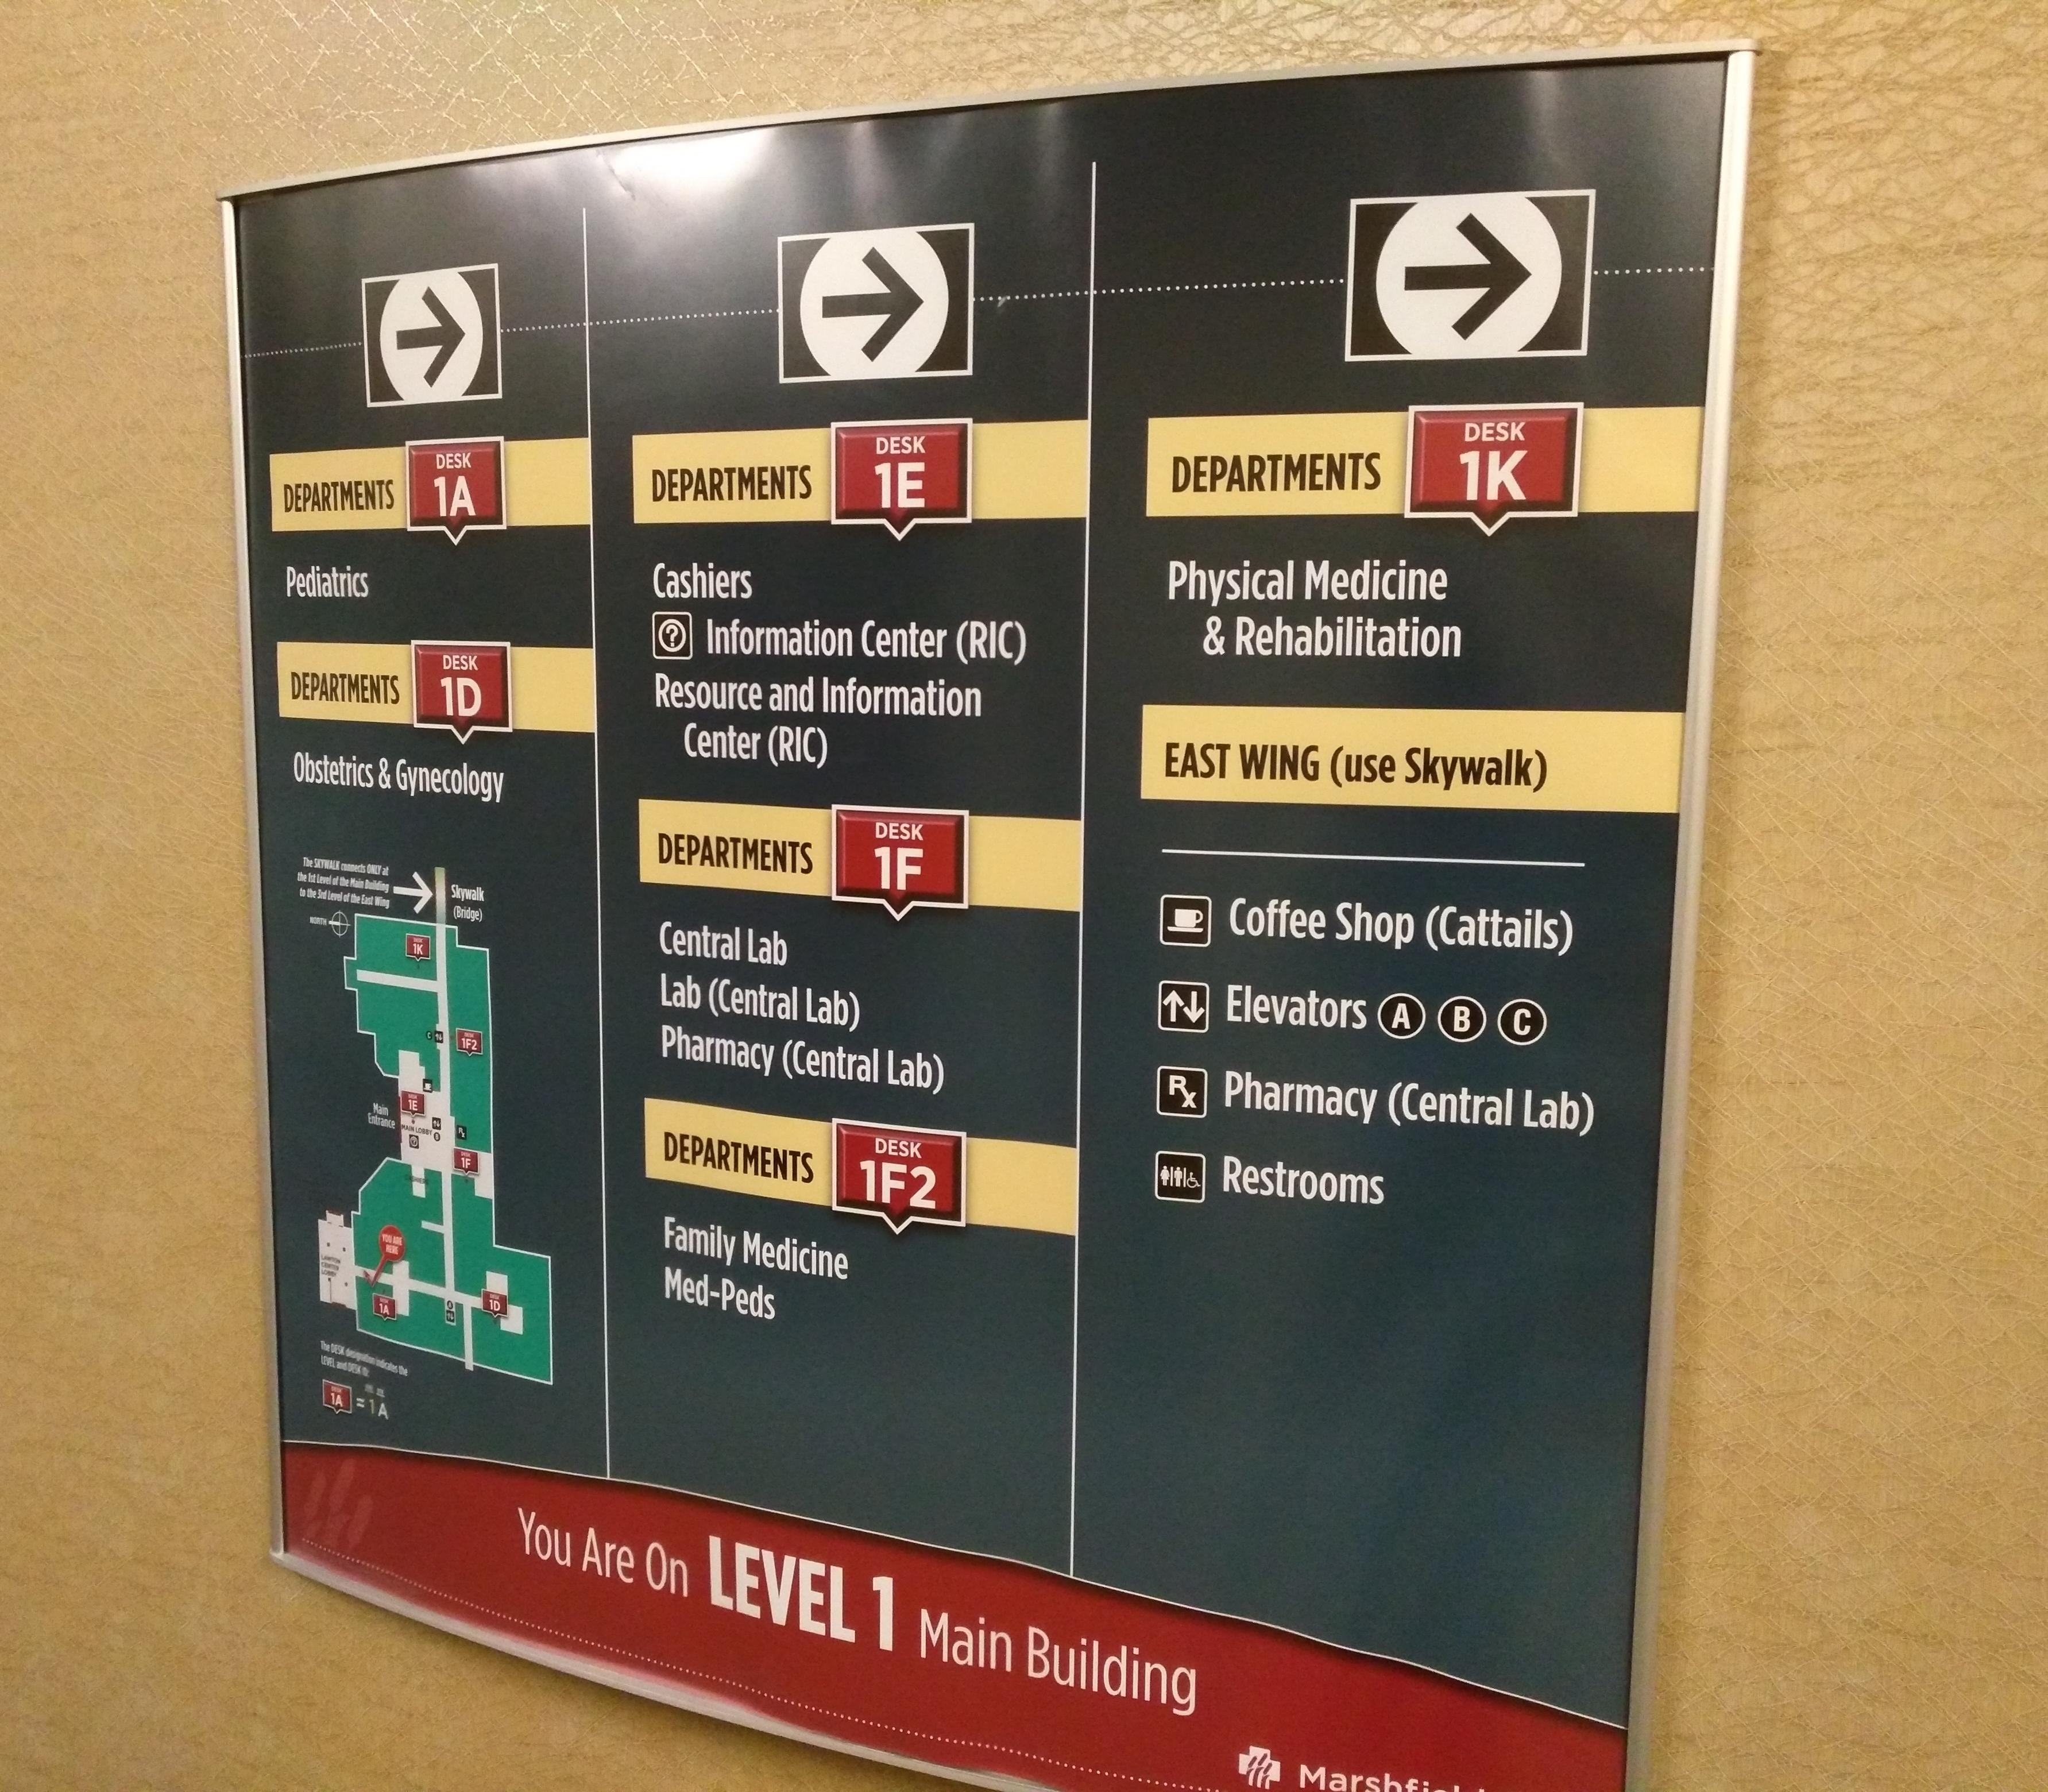sign: (219, 45, 1761, 1789)
